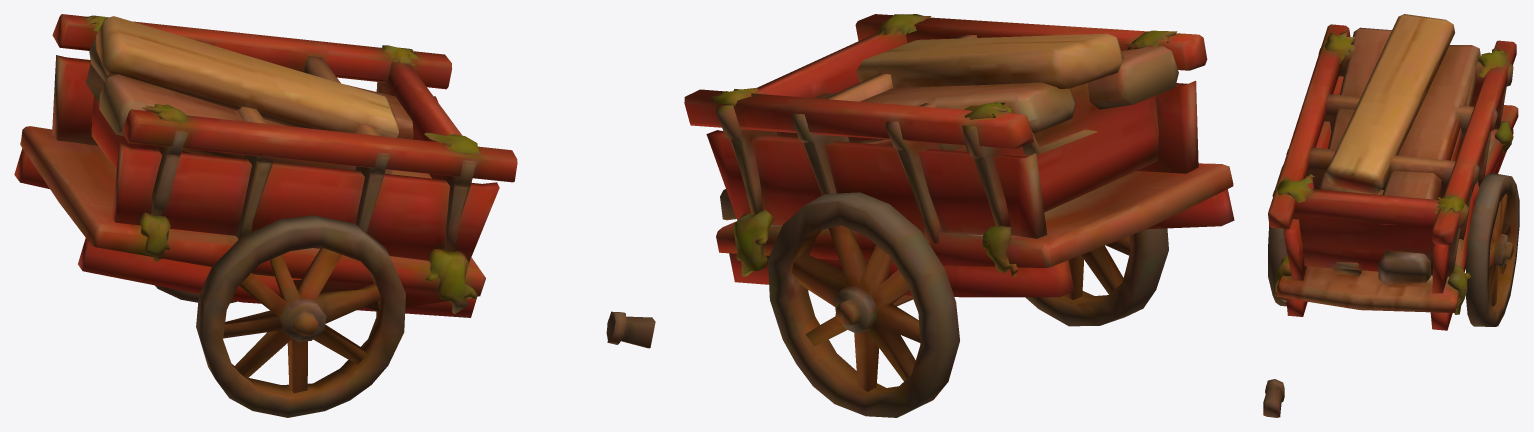
Rendered from wyn_outpost_hearthwright_cart.glb.
3 renders of one model, left to right at view 1: azimuth 30°, elevation 25°; view 2: azimuth 150°, elevation 25°; view 3: azimuth 270°, elevation 25°, orthographic. The views are drawn at different scales.
Parts seen in each view (by area): view 1: tripo_node_97336a8e-6bf8-49da-9a1b-0fb47a705537; view 2: tripo_node_97336a8e-6bf8-49da-9a1b-0fb47a705537; view 3: tripo_node_97336a8e-6bf8-49da-9a1b-0fb47a705537.
Part boxes in pixels (bbox=[...]): tripo_node_97336a8e-6bf8-49da-9a1b-0fb47a705537: bbox=[14, 14, 655, 417]; tripo_node_97336a8e-6bf8-49da-9a1b-0fb47a705537: bbox=[684, 14, 1234, 417]; tripo_node_97336a8e-6bf8-49da-9a1b-0fb47a705537: bbox=[1263, 14, 1519, 417].
Bounding box in the file's own units: 2.22 × 1.4 × 1.31.
Materials: 1 (1 with a texture image).
